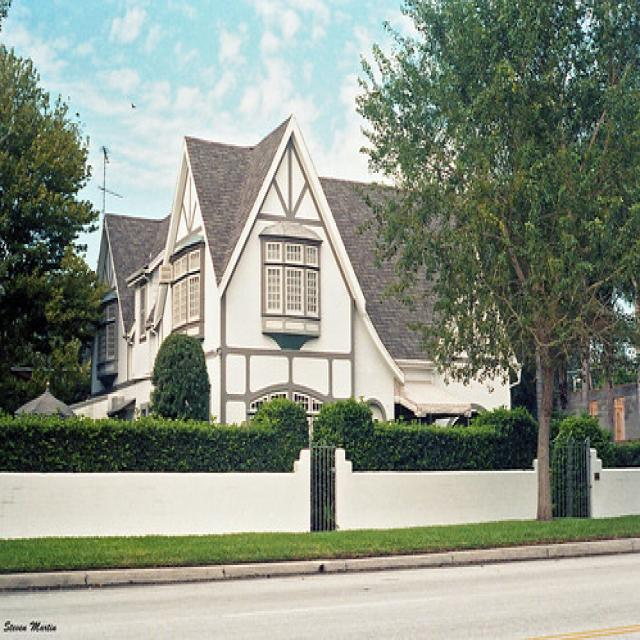Normal_building: (87, 112, 518, 436)
